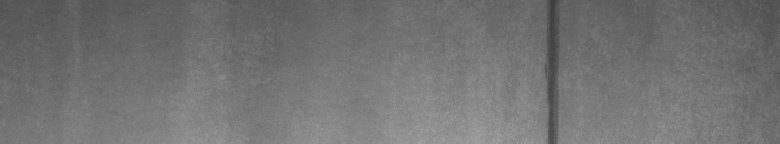hd: (539, 4, 565, 136)
